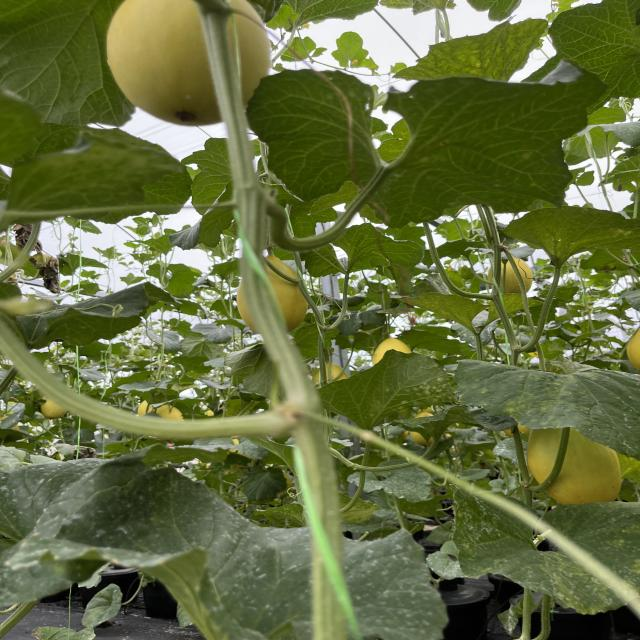CMV: (397, 19, 545, 88)
downy mildew: (461, 355, 640, 459), (316, 342, 458, 428), (500, 199, 640, 270)
healthy: (246, 63, 574, 225)
